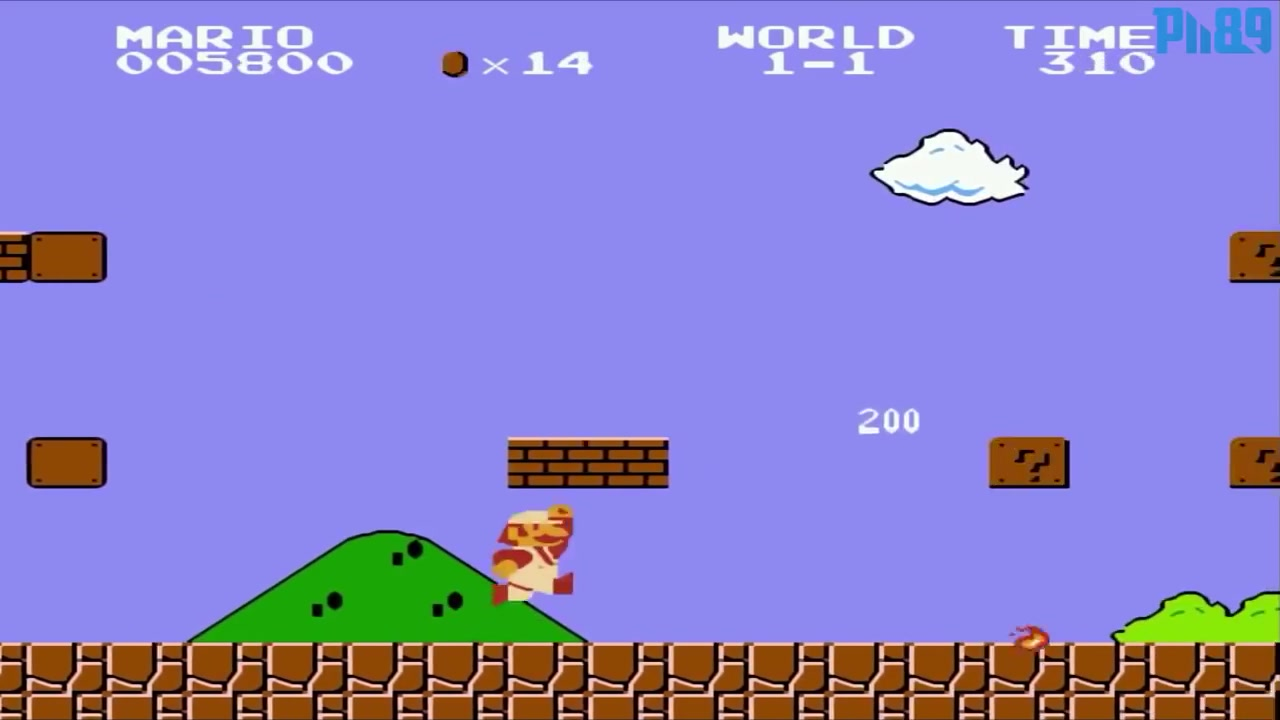mario: (484, 500, 592, 607)
